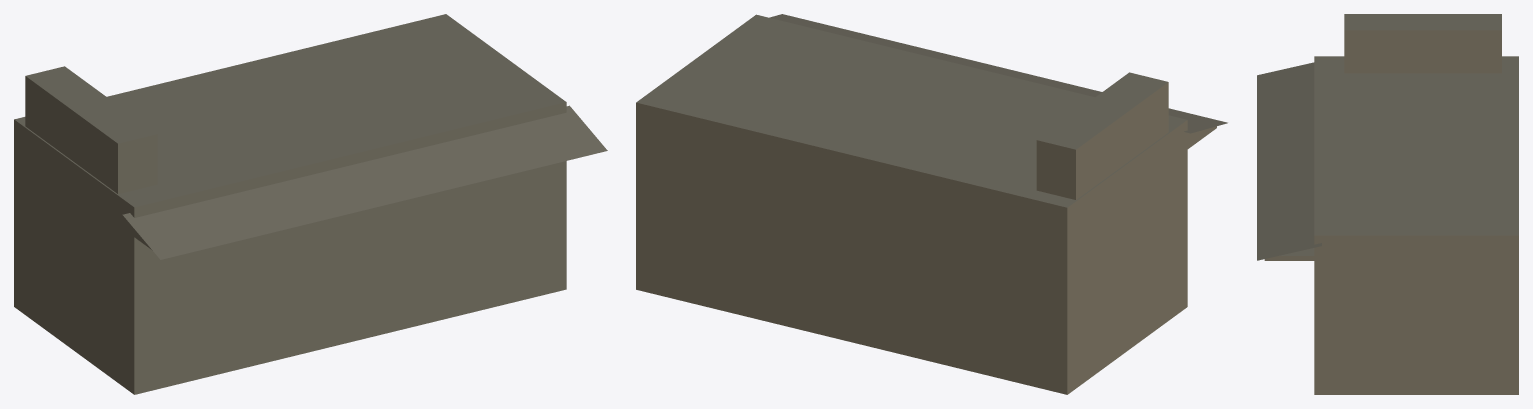
File: cr-motor-court.far-facades-v3.lod2.glb
The picture shows the model from 3 angles, left to right: view 1: azimuth 30°, elevation 25°; view 2: azimuth 150°, elevation 25°; view 3: azimuth 270°, elevation 25°; orthographic projection. The views are drawn at different scales.
Parts seen in each view (by area): view 1: cr-motor-court; view 2: cr-motor-court; view 3: cr-motor-court.
Boxes of the visible parts, bbox=[...] form: cr-motor-court: bbox=[14, 14, 607, 394]; cr-motor-court: bbox=[636, 14, 1227, 394]; cr-motor-court: bbox=[1257, 14, 1518, 394].
Bounding box in the file's own units: 17.6 × 8.95 × 10.5.
